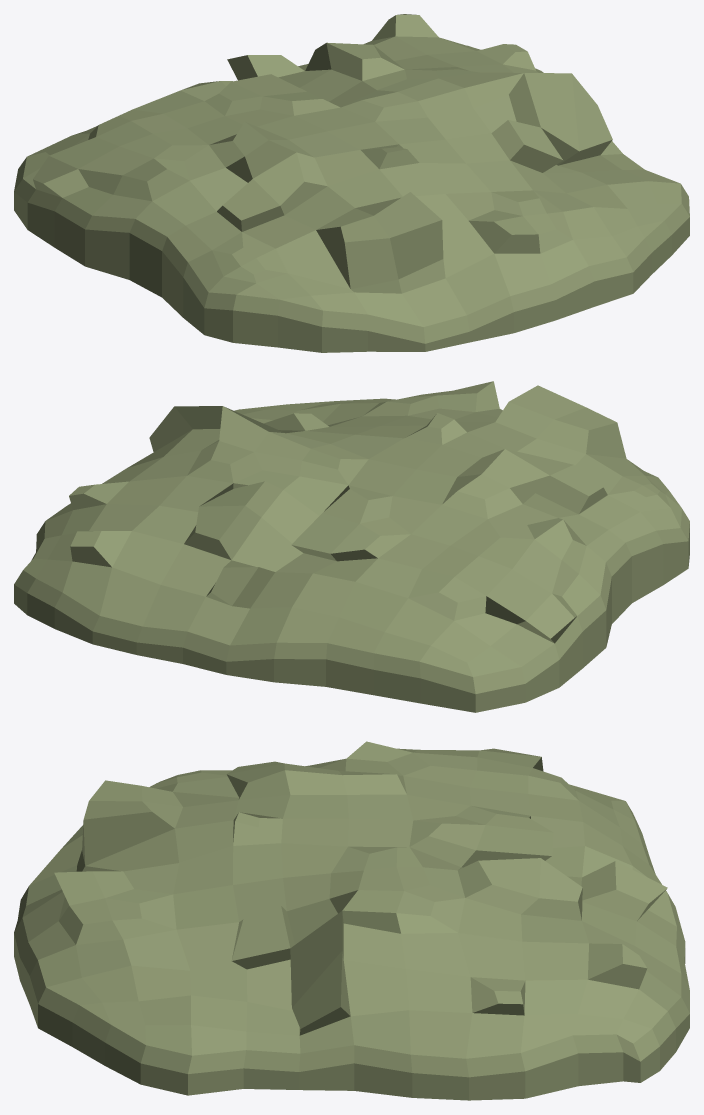
Rendered from shreddedLeaves.fbx.
3 renders of one model, top to bottom at view 1: azimuth 30°, elevation 25°; view 2: azimuth 150°, elevation 25°; view 3: azimuth 270°, elevation 25°, orthographic. The views are drawn at different scales.
Parts seen in each view (by area): view 1: pPlane1; view 2: pPlane1; view 3: pPlane1.
Boxes of the visible parts, x1,y1,x2,y2 form: pPlane1: (14, 14, 689, 352); pPlane1: (14, 381, 689, 712); pPlane1: (14, 741, 689, 1100).
Bounding box in the file's own units: 2.36 × 0.5078 × 2.35.
